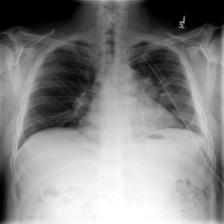normal: (13, 31, 208, 169)
